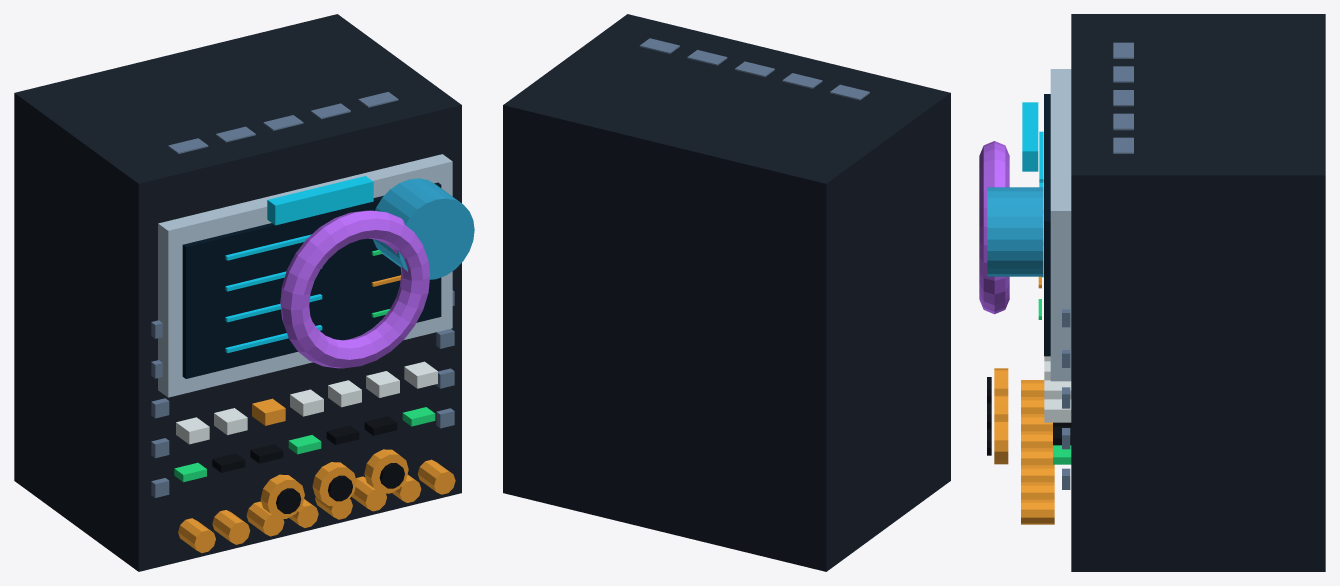
The model's file is 22_L89_SpectralCalibrationSource.fbx.
3 views of the same model, side by side, from view 1: azimuth 30°, elevation 25°; view 2: azimuth 150°, elevation 25°; view 3: azimuth 270°, elevation 25° (orthographic). The views are drawn at different scales.
Visible parts, largest first — view 1: L87_SpectralCalibrationSource_Part_0000, L87_SpectralCalibrationSource_Part_0002, L87_SpectralCalibrationSource_Part_0001, L87_SpectralCalibrationSource_Part_0011, L87_SpectralCalibrationSource_Part_0004, L87_SpectralCalibrationSource_Part_0009, L87_SpectralCalibrationSource_Part_0008, L87_SpectralCalibrationSource_Part_0006, L87_SpectralCalibrationSource_Part_0010, L87_SpectralCalibrationSource_Part_0007, L87_SpectralCalibrationSource_Part_0003, L87_SpectralCalibrationSource_Part_0005 (+3 smaller); view 2: L87_SpectralCalibrationSource_Part_0000, L87_SpectralCalibrationSource_Part_0008; view 3: L87_SpectralCalibrationSource_Part_0000, L87_SpectralCalibrationSource_Part_0001, L87_SpectralCalibrationSource_Part_0009, L87_SpectralCalibrationSource_Part_0004, L87_SpectralCalibrationSource_Part_0011, L87_SpectralCalibrationSource_Part_0008, L87_SpectralCalibrationSource_Part_0002, L87_SpectralCalibrationSource_Part_0006, L87_SpectralCalibrationSource_Part_0010, L87_SpectralCalibrationSource_Part_0016.
Part boxes in pixels (x1,y1,x2,y2): L87_SpectralCalibrationSource_Part_0000: (14, 14, 461, 571); L87_SpectralCalibrationSource_Part_0002: (182, 182, 441, 378); L87_SpectralCalibrationSource_Part_0001: (158, 154, 452, 397); L87_SpectralCalibrationSource_Part_0011: (280, 210, 430, 368); L87_SpectralCalibrationSource_Part_0004: (178, 275, 455, 552); L87_SpectralCalibrationSource_Part_0009: (373, 178, 474, 279); L87_SpectralCalibrationSource_Part_0008: (151, 92, 454, 497); L87_SpectralCalibrationSource_Part_0006: (176, 361, 437, 444); L87_SpectralCalibrationSource_Part_0010: (267, 176, 373, 225); L87_SpectralCalibrationSource_Part_0007: (212, 416, 397, 472); L87_SpectralCalibrationSource_Part_0003: (225, 234, 322, 353); L87_SpectralCalibrationSource_Part_0005: (174, 250, 435, 482); L87_SpectralCalibrationSource_Part_0000: (503, 14, 950, 571); L87_SpectralCalibrationSource_Part_0008: (639, 38, 869, 100); L87_SpectralCalibrationSource_Part_0000: (1071, 14, 1325, 571); L87_SpectralCalibrationSource_Part_0001: (1050, 69, 1071, 381); L87_SpectralCalibrationSource_Part_0009: (987, 187, 1043, 276); L87_SpectralCalibrationSource_Part_0004: (1021, 276, 1054, 524); L87_SpectralCalibrationSource_Part_0011: (979, 141, 1009, 314); L87_SpectralCalibrationSource_Part_0008: (1062, 42, 1133, 489); L87_SpectralCalibrationSource_Part_0002: (1044, 94, 1050, 356); L87_SpectralCalibrationSource_Part_0006: (1044, 356, 1071, 422); L87_SpectralCalibrationSource_Part_0010: (1022, 102, 1038, 171); L87_SpectralCalibrationSource_Part_0016: (994, 420, 1008, 464).
Bounding box in the file's own units: 112 × 129 × 102.
